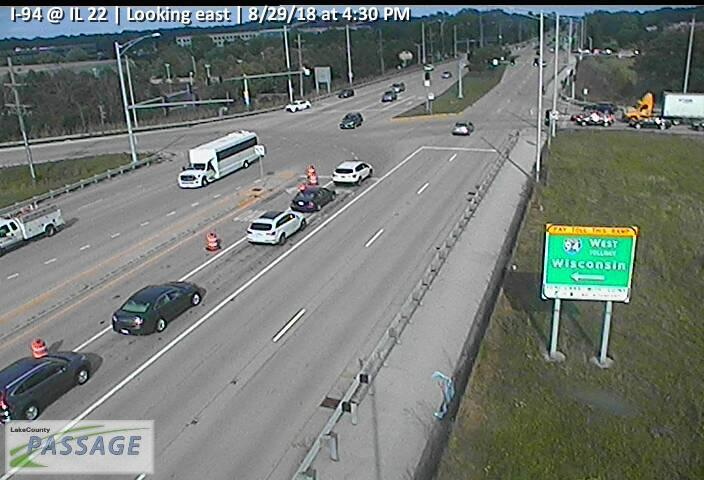Sedan: (1, 352, 92, 424), (112, 280, 202, 336), (246, 208, 306, 245), (290, 184, 338, 212), (333, 158, 373, 185), (284, 96, 311, 113), (340, 112, 363, 130), (452, 120, 474, 135), (339, 87, 353, 99), (382, 91, 396, 102)
Truck: (178, 131, 262, 190), (1, 205, 66, 259), (624, 92, 704, 130)
